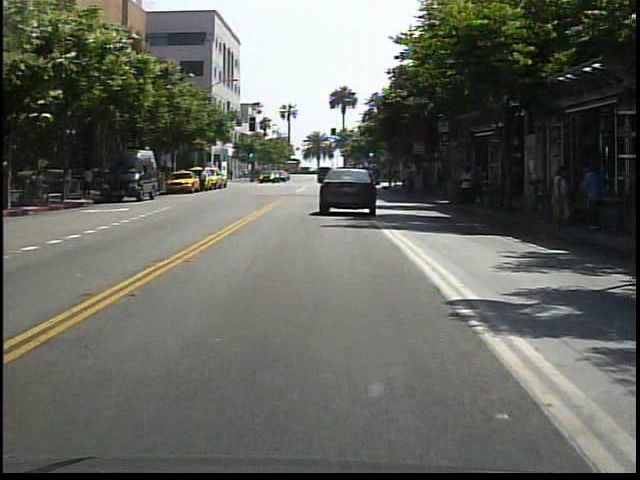person: (456, 165, 480, 213)
